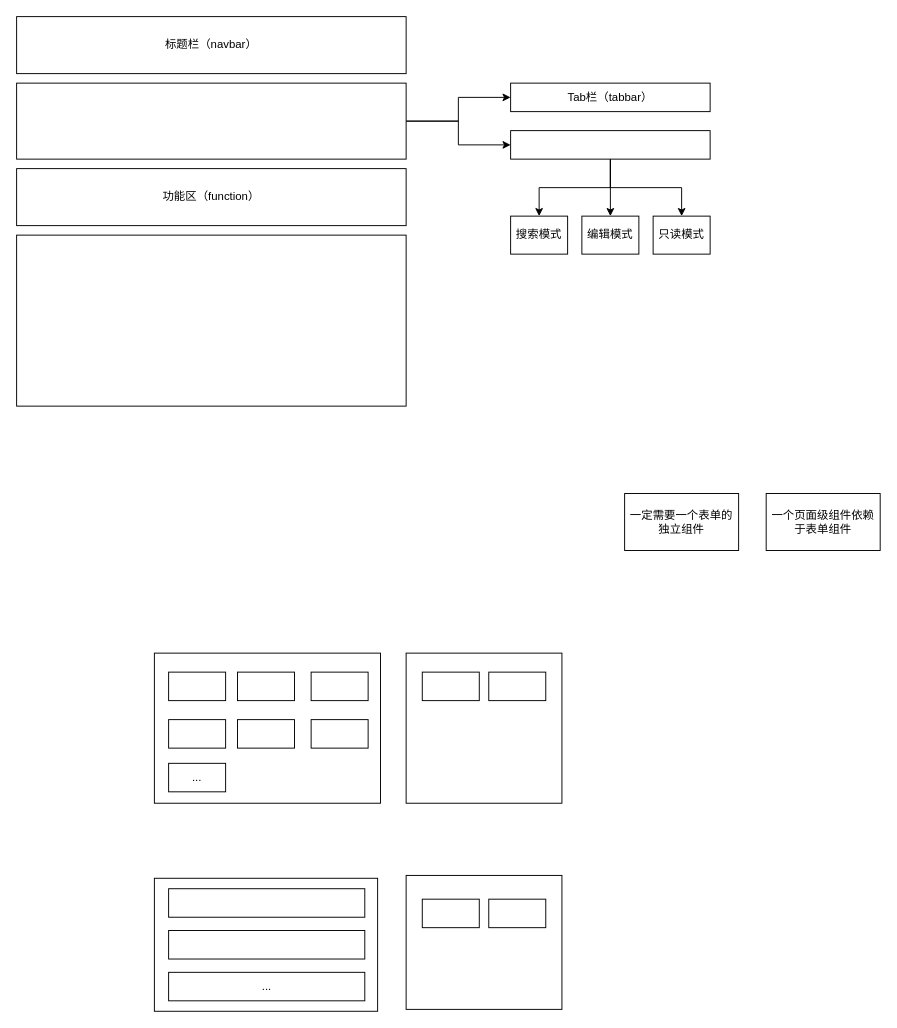
This 897x1028 diagram has some shape labels left out. Here are the shapes that lost their labels. From the top down, the centre of each, then its label:
At point (211, 120): "搜索区（search）".
At point (610, 144): "表单（form）".
At point (211, 320): "表格（table）".
